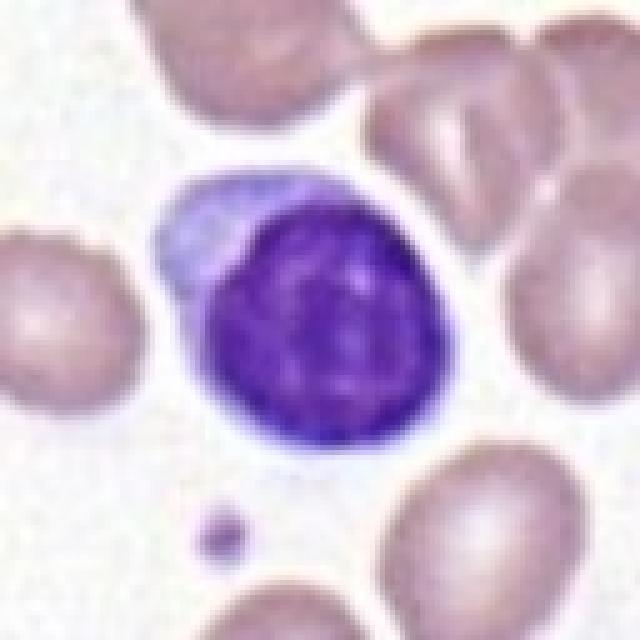lympho: (146, 160, 458, 459)
